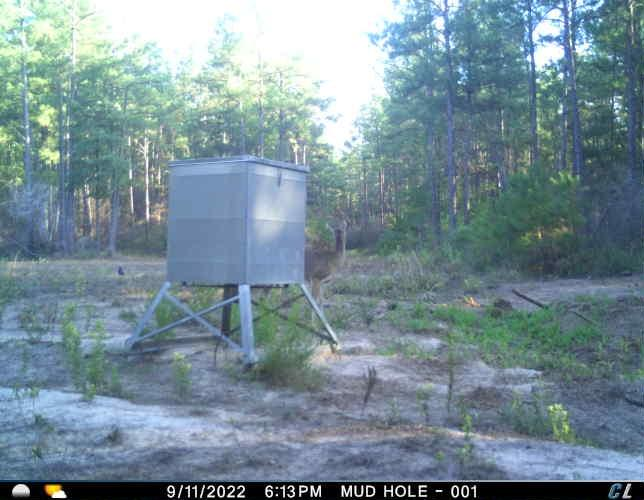Deer: (302, 216, 353, 323)
